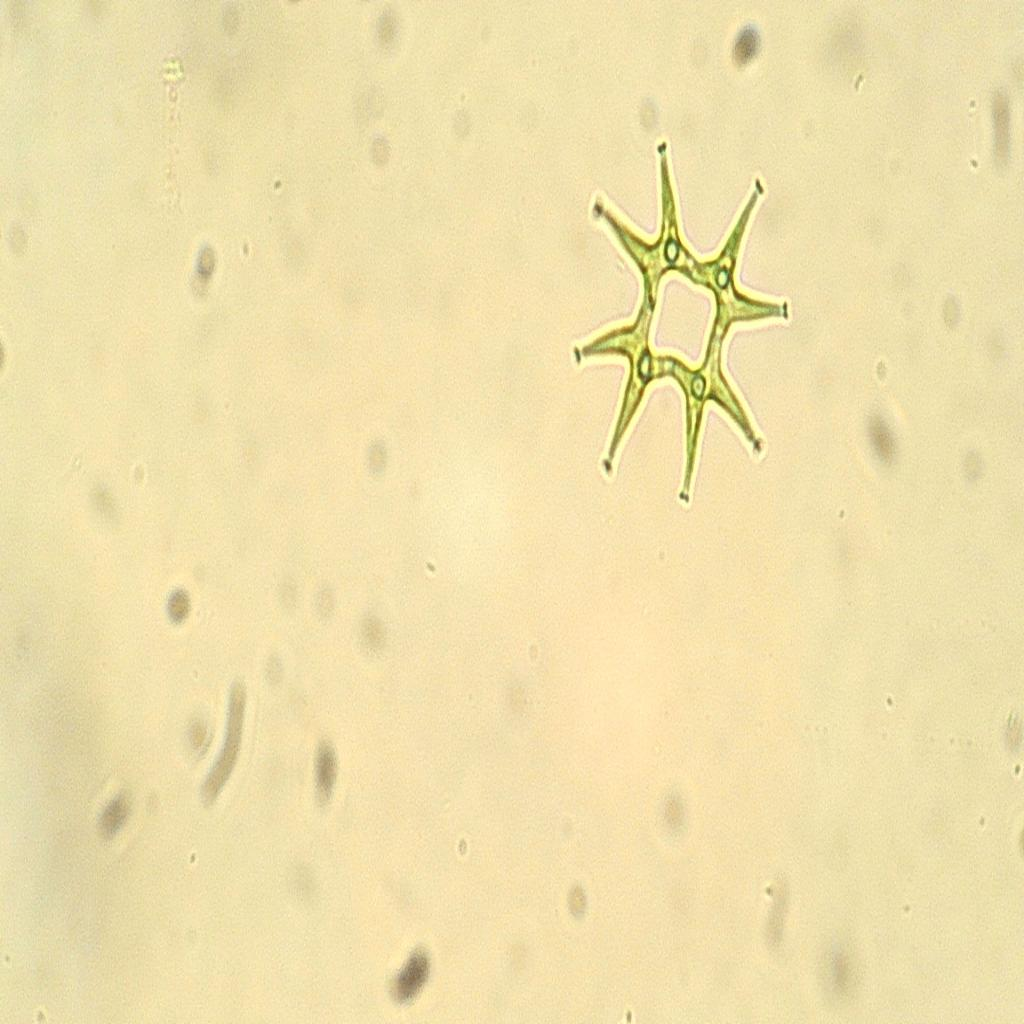Pediastrum_10: (557, 114, 805, 528)
